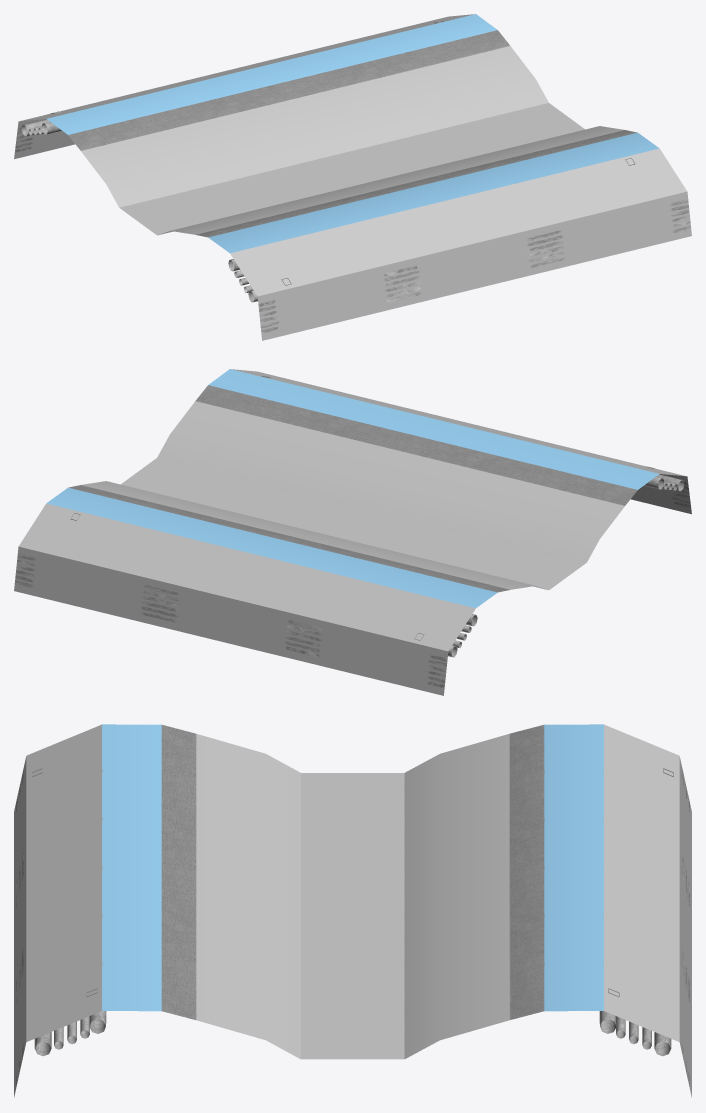
File: ceiling.textured.fbx
The picture shows the model from 3 angles, top to bottom: view 1: azimuth 30°, elevation 25°; view 2: azimuth 150°, elevation 25°; view 3: azimuth 270°, elevation 25°; orthographic projection. The views are drawn at different scales.
Visible parts, largest first — view 1: lp_ceiling_straight; view 2: lp_ceiling_straight; view 3: lp_ceiling_straight.
Boxes of the visible parts, x1=… form: lp_ceiling_straight: x1=14, y1=14, x2=691, y2=340; lp_ceiling_straight: x1=14, y1=369, x2=691, y2=695; lp_ceiling_straight: x1=14, y1=724, x2=691, y2=1097.
Size of the model in its own units: 401 by 57.01 by 400.
